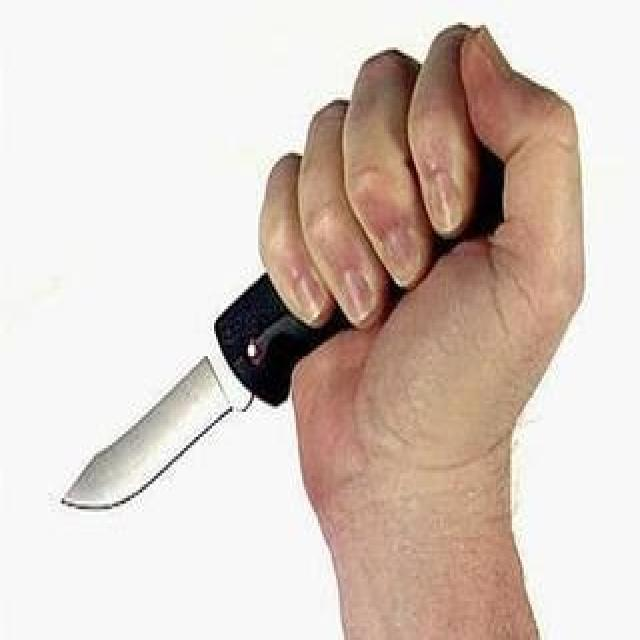knife: (57, 267, 299, 521)
